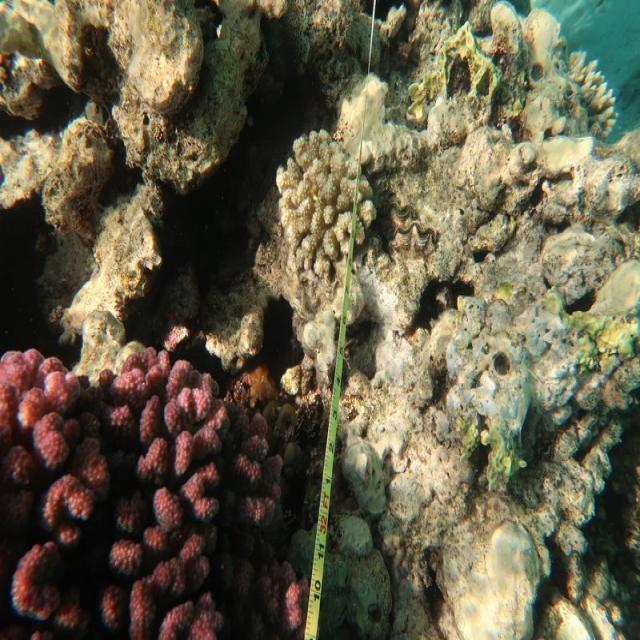Healthy Coral: (0, 341, 307, 640)
